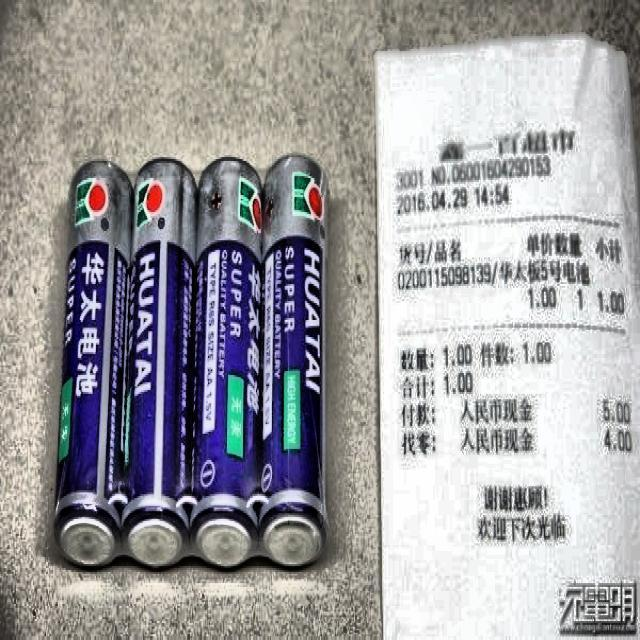battery: (54, 162, 132, 565), (122, 160, 198, 565), (190, 158, 262, 567), (259, 155, 329, 565)
